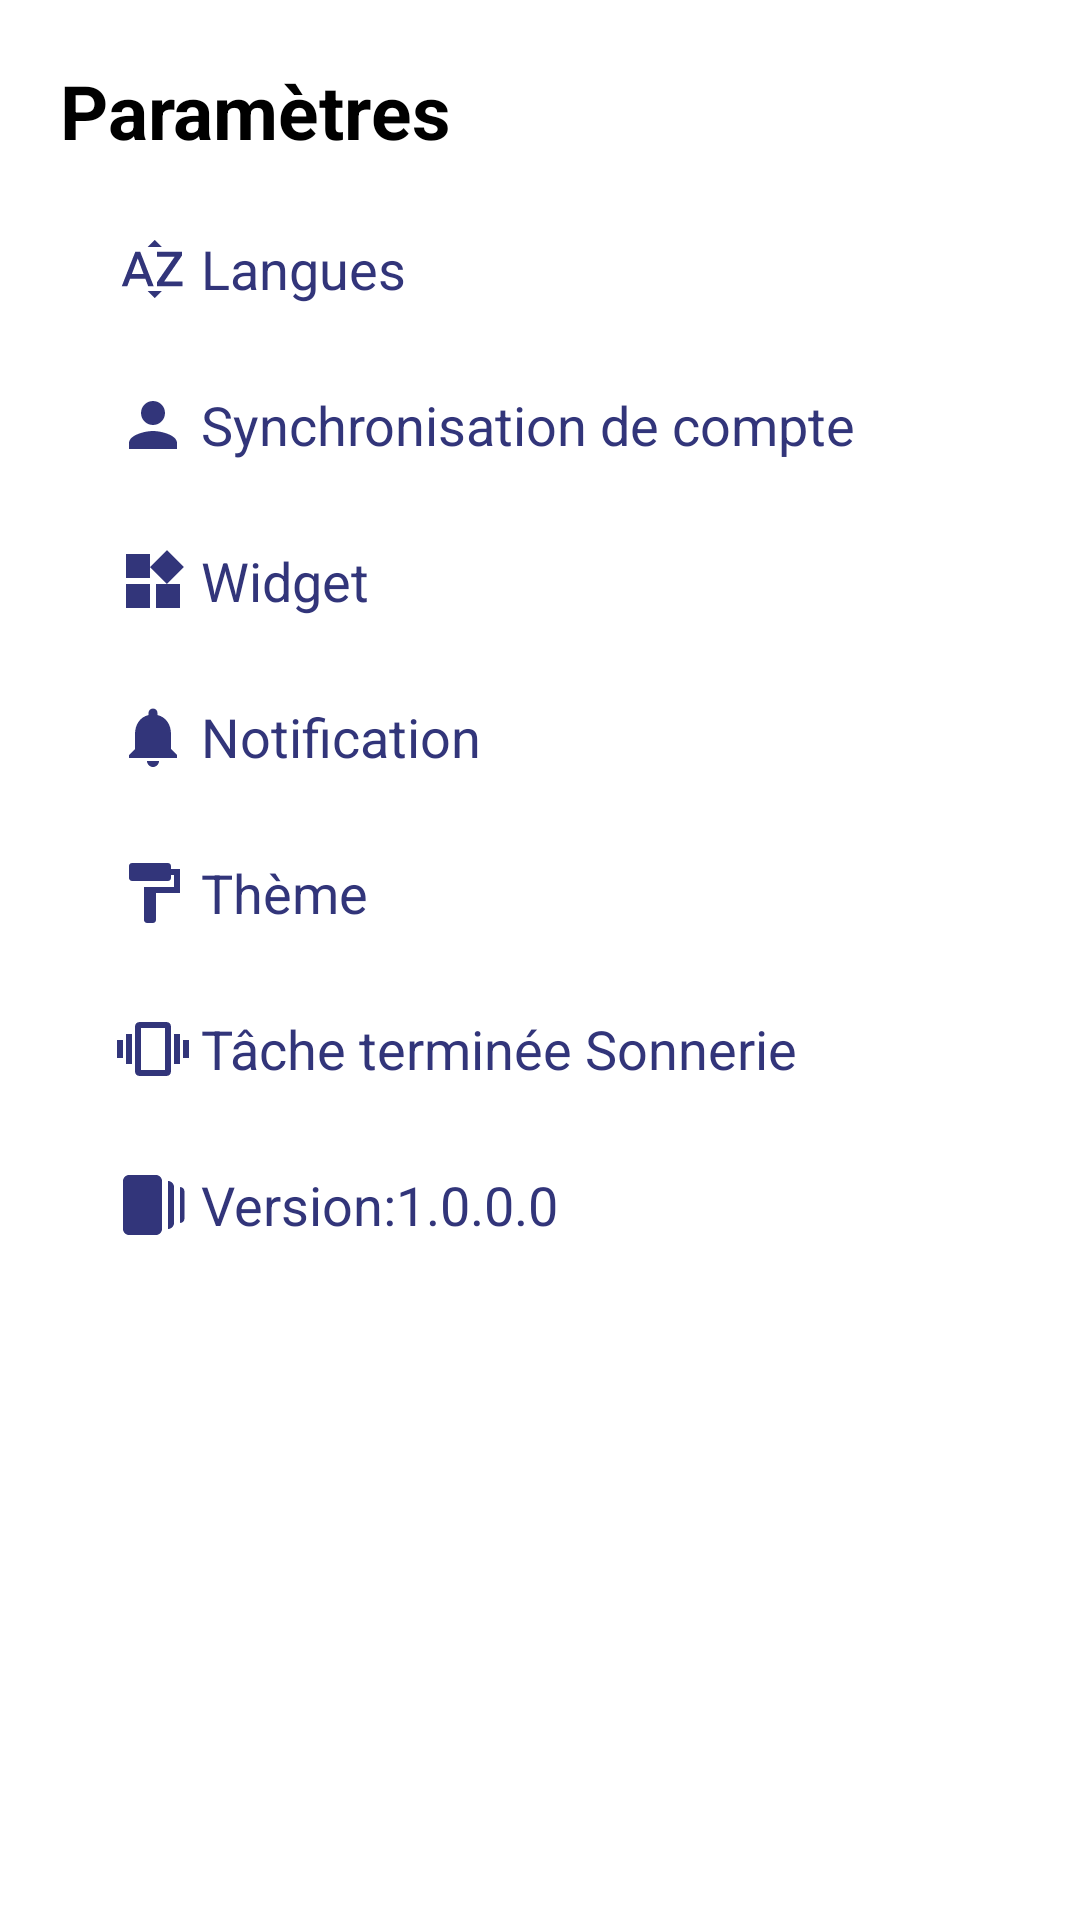

Named icons in this screenshot (1080w x 1920h) and their bounding boxes, bbox=(x1, y1, x2, y2):
person: bbox=(129, 401, 177, 449)
themes: bbox=(129, 863, 180, 923)
vibration: bbox=(117, 1022, 189, 1076)
